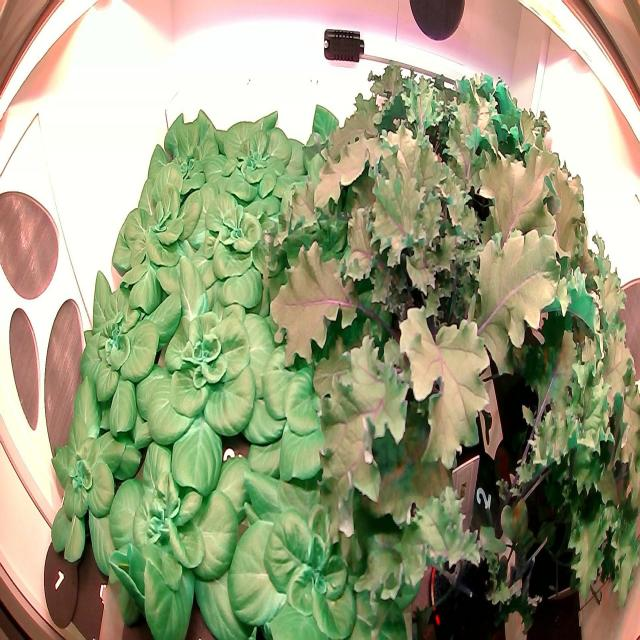young: (227, 450, 411, 638), (103, 420, 257, 640), (132, 282, 275, 496), (261, 306, 411, 478), (43, 362, 146, 580), (76, 260, 182, 457), (108, 138, 212, 316), (176, 170, 292, 324), (205, 97, 316, 222), (145, 99, 231, 207)
